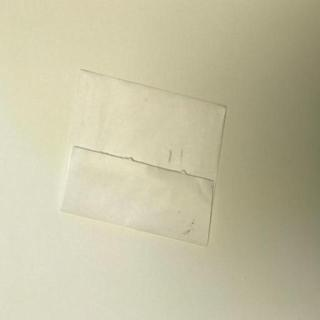Anorganik: (55, 67, 230, 251)
